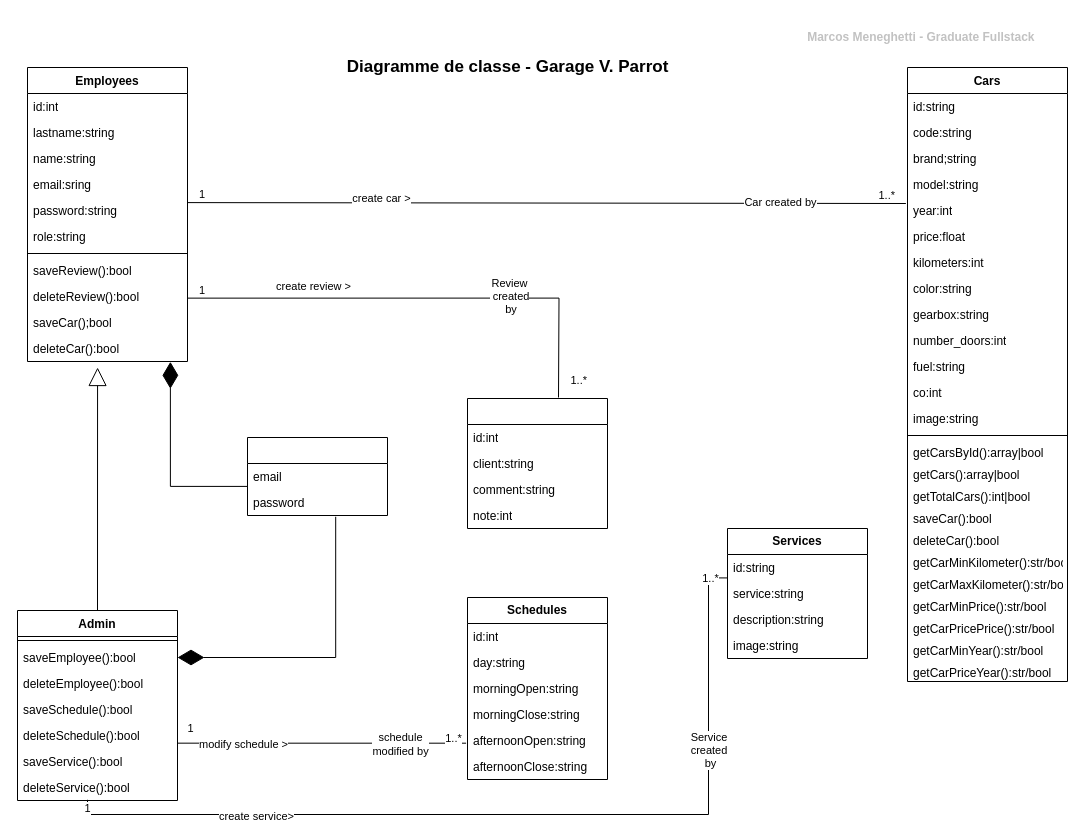
Image size: 1090x839. Some labels were removed from this diagram. The shapes that lost their labels are listed below. From the top down, each one's box as (x1, y1, x2, y2) in pixels, then its label:
(246, 436, 388, 516): Login
(466, 398, 608, 528): Reviews
